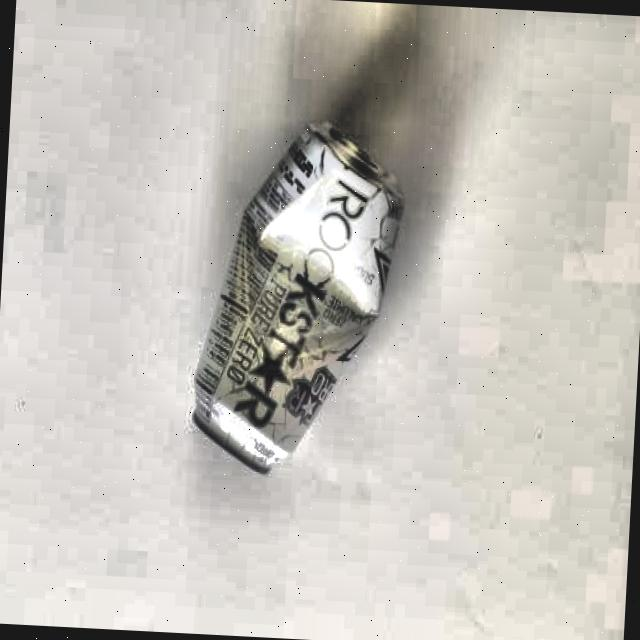metal: (192, 119, 404, 482)
